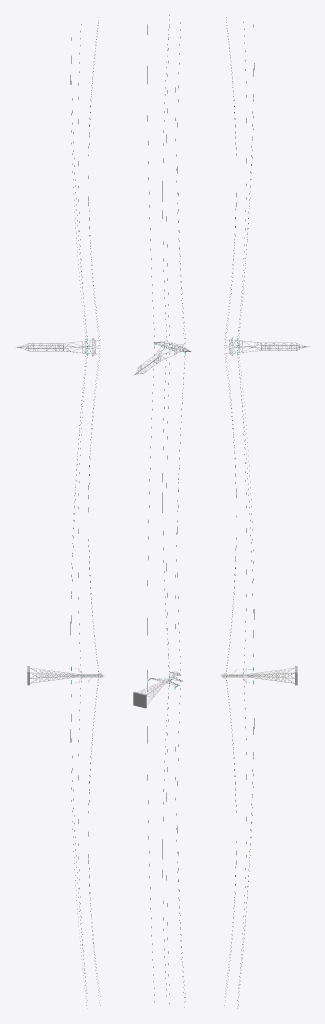
Rendered from highline.obj.
3 renders of one model, left to right at view 1: azimuth 90°, elevation 25°; view 2: azimuth 150°, elevation 25°; view 3: azimuth 270°, elevation 25°, orthographic.
Parts seen in each view (by area): view 1: Mesh321 Torre_te_Transmiiss_o_B_sica_1_1 Group3 Group2 Group1 Mo; view 2: Mesh321 Torre_te_Transmiiss_o_B_sica_1_1 Group3 Group2 Group1 Mo; view 3: Mesh321 Torre_te_Transmiiss_o_B_sica_1_1 Group3 Group2 Group1 Mo.
Boxes of the visible parts, <box> form: Mesh321 Torre_te_Transmiiss_o_B_sica_1_1 Group3 Group2 Group1 Mo: <box>27,666,104,685</box>; Mesh321 Torre_te_Transmiiss_o_B_sica_1_1 Group3 Group2 Group1 Mo: <box>133,671,178,708</box>; Mesh321 Torre_te_Transmiiss_o_B_sica_1_1 Group3 Group2 Group1 Mo: <box>220,666,297,685</box>.
Size of the model in its own units: 18423 by 451807 by 37670.
